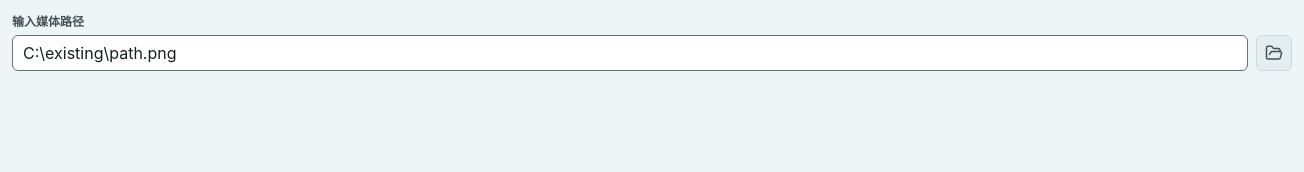
Test: PathInput › cancels a pending picker intent when disabled and permits a new pick after re-enable
Later steps or results of the test are not shown.
Click the button named "指定输入媒体路径".
click(1274, 53)  # box [1256,35,1292,71]
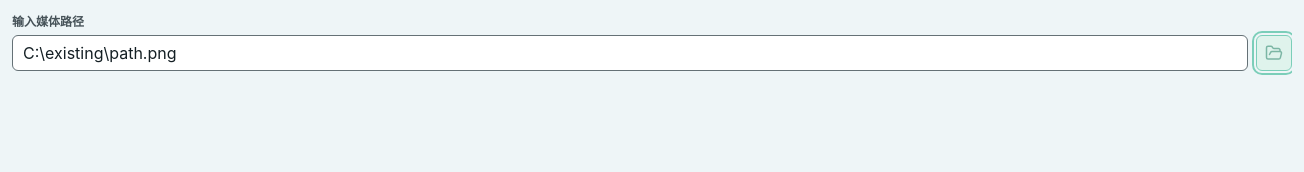
Expected: the button named "指定输入媒体路径" is disabled, [1256,35,1292,71]
